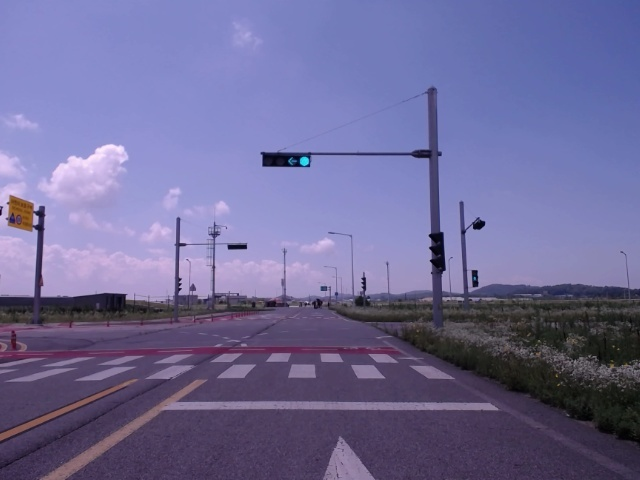all_green_4: (262, 151, 310, 168)
